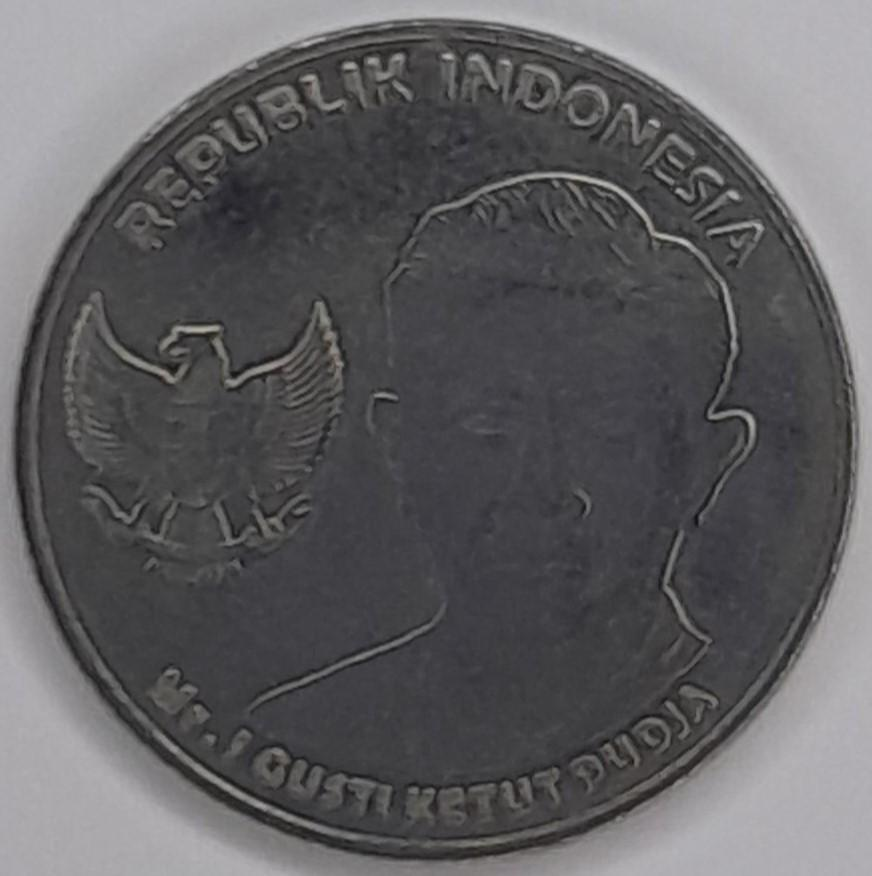coin_1000_e2016: (15, 17, 860, 876)
